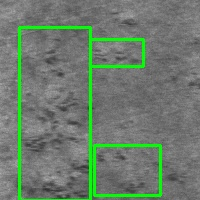rolled-in_scale: (19, 27, 90, 200), (94, 145, 160, 195), (90, 39, 143, 66)
